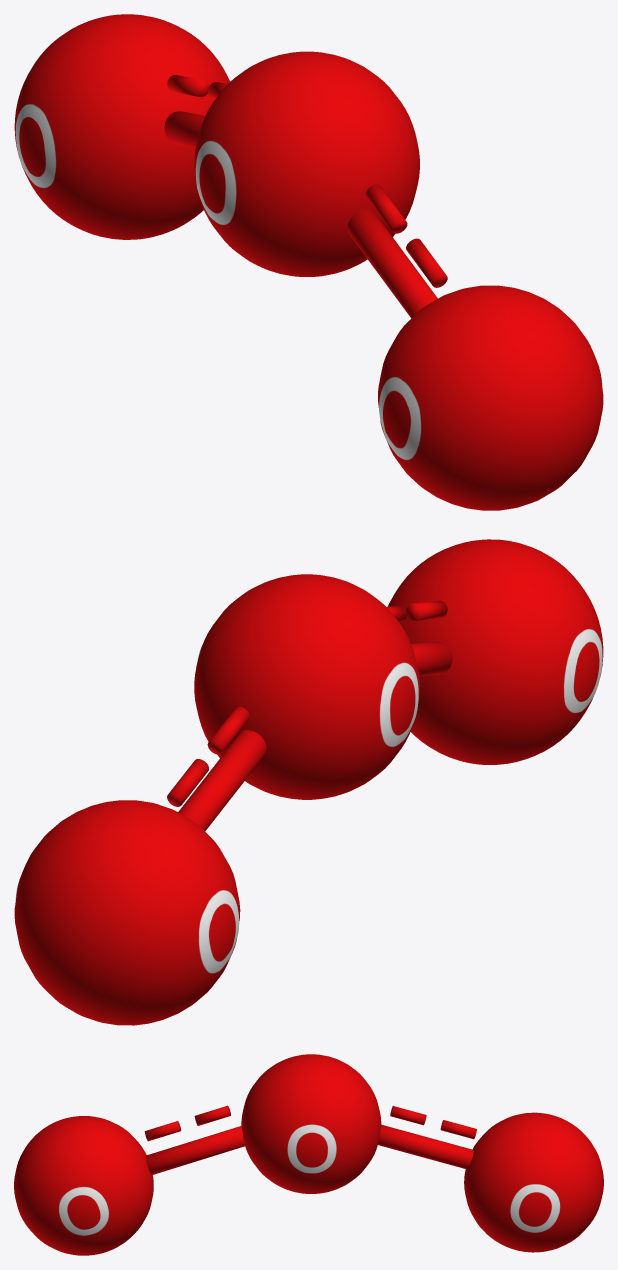
Rendered from ozonio2.glb.
3 views of the same model, one above another, from view 1: azimuth 30°, elevation 25°; view 2: azimuth 150°, elevation 25°; view 3: azimuth 270°, elevation 25° (orthographic). The views are drawn at different scales.
Parts seen in each view (by area): view 1: Mol molde 21.02; view 2: Mol molde 21.02; view 3: Mol molde 21.02.
Boxes of the visible parts, box(x1,y1,x2,y2) form: Mol molde 21.02: box(14, 14, 603, 510); Mol molde 21.02: box(14, 539, 603, 1025); Mol molde 21.02: box(14, 1054, 603, 1255).
Bounding box in the file's own units: 0.3054 × 0.4538 × 1.29.
Materials: 2 (2 with a texture image).
